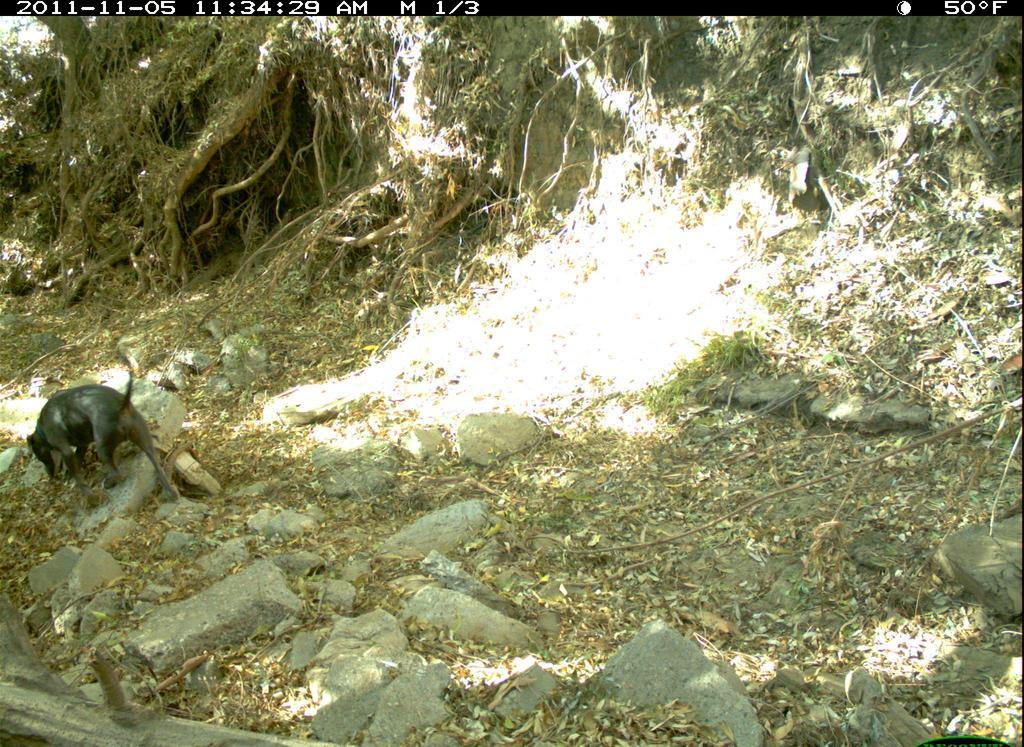dog: (23, 357, 198, 518)
